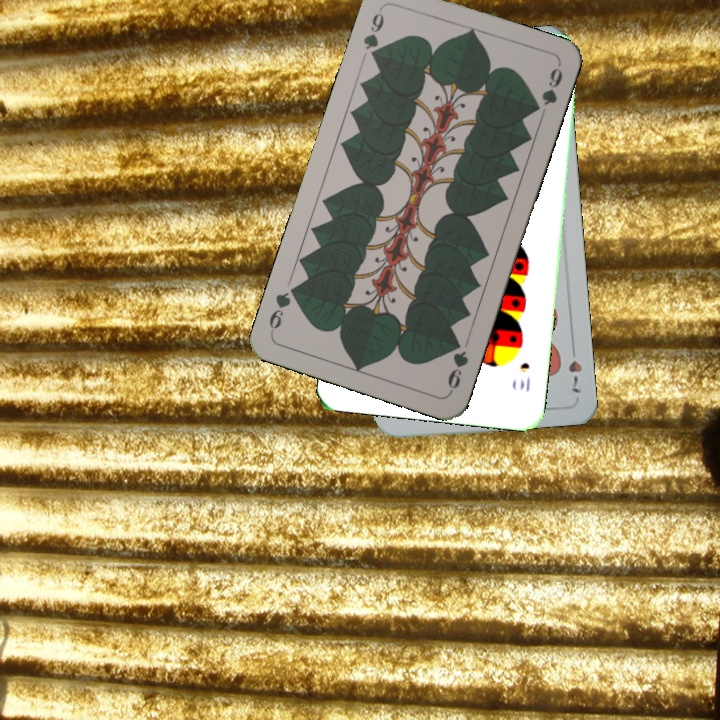G9: (359, 3, 387, 64), (443, 335, 471, 395)
H7: (565, 339, 585, 395)
S10: (516, 358, 533, 394)
